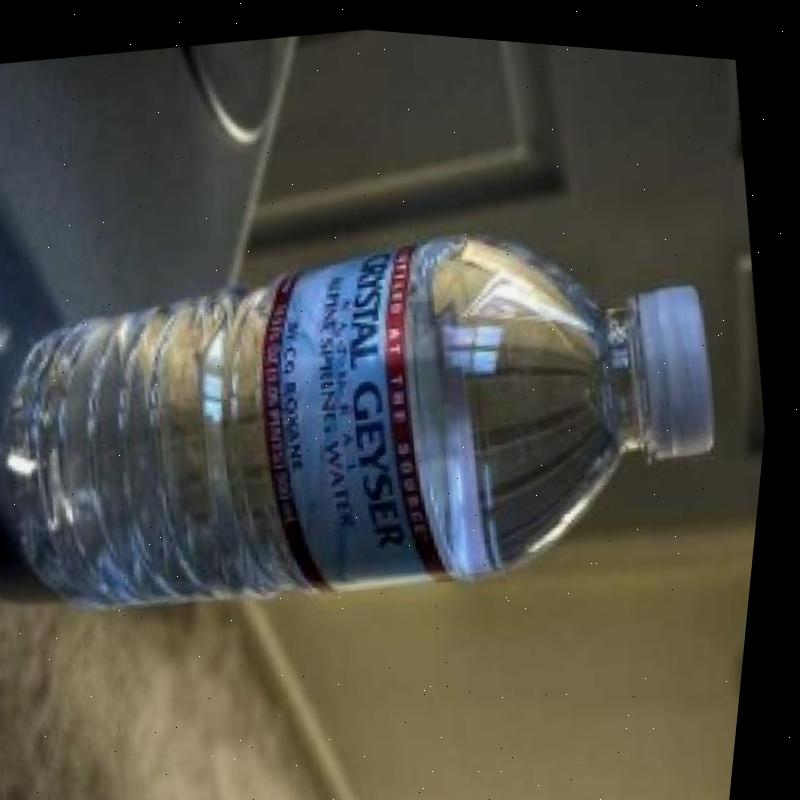botella: (0, 156, 762, 668)
